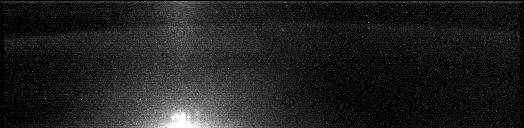positive: (164, 107, 199, 127)
